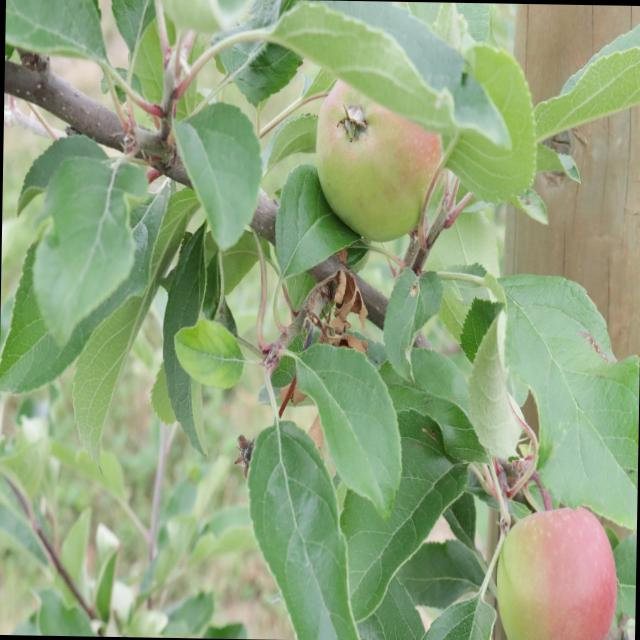-FireBlight-: (322, 261, 374, 367)
